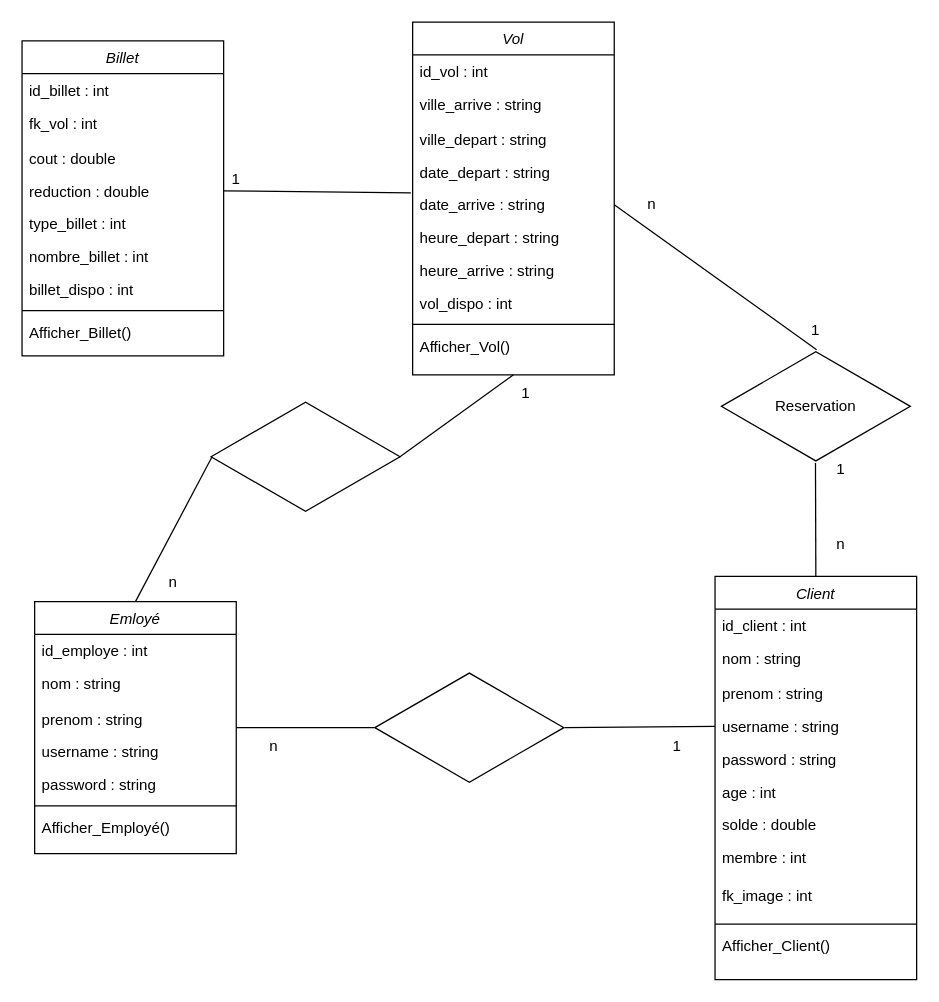
The diagram is 939 pixels wide and 1002 high, and some of its shapes have lost their labels. The centre of each missing label's shape, as x and y in pixels:
"Relation Client/Employe" belongs at point 469,727.
"Relation Vol/Employe" belongs at point 305,456.
